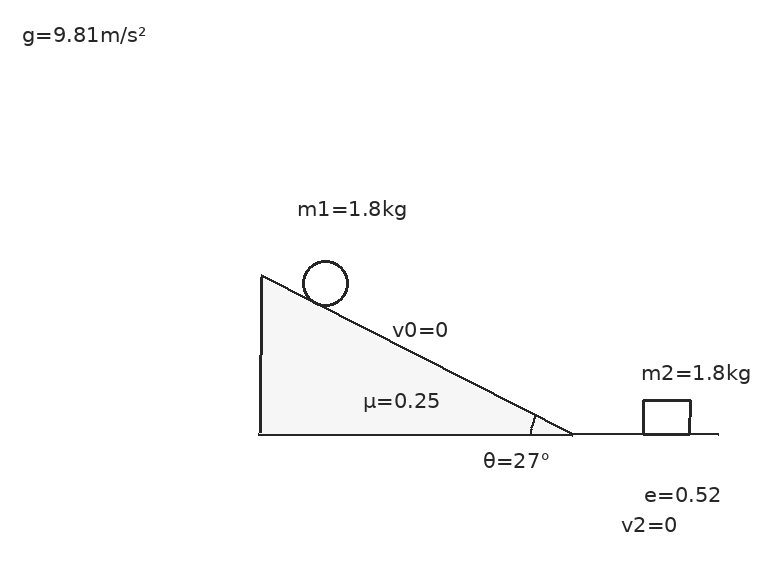ball: (300, 258, 350, 308)
block: (641, 398, 691, 436)
ramp: (258, 274, 573, 436)
